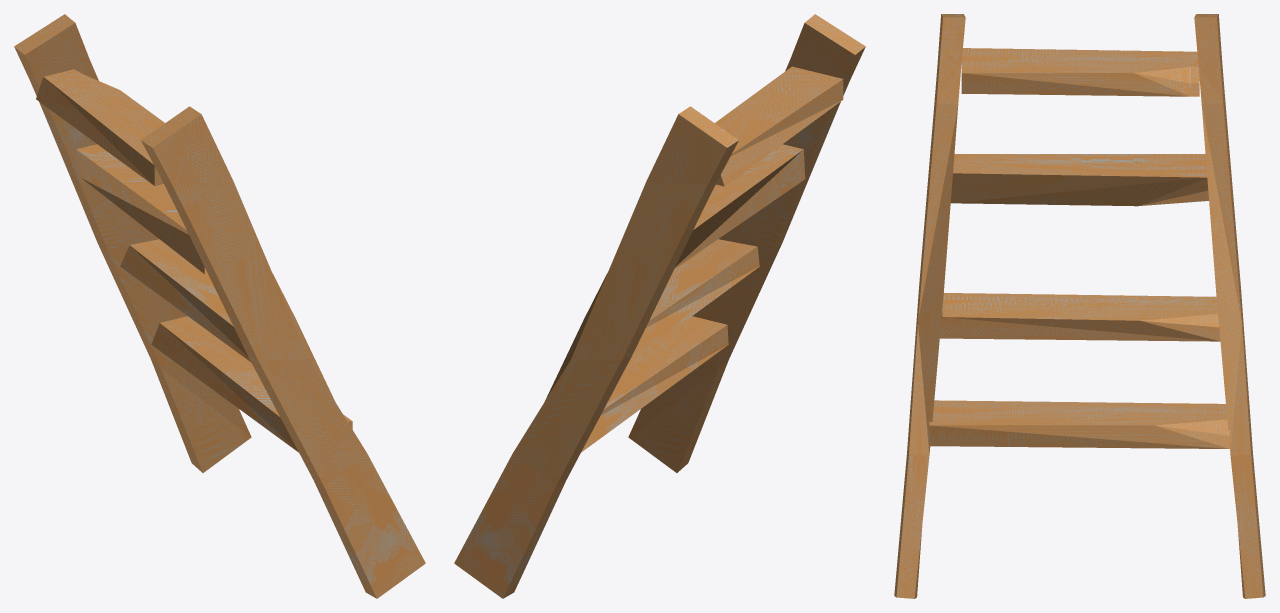
The model's file is Stairs2.fbx.
3 renders of one model, left to right at view 1: azimuth 30°, elevation 25°; view 2: azimuth 150°, elevation 25°; view 3: azimuth 270°, elevation 25°, orthographic.
Parts seen in each view (by area): view 1: Group6, Group3, Group4, Group5, Group2, Group1; view 2: Group3, Group6, Group4, Group5, Group2, Group1; view 3: Group3, Group6, Group5, Group1, Group2, Group4.
Boxes of the visible parts, x1,y1,x2,y2 form: Group6: [141, 106, 425, 598]; Group3: [14, 14, 251, 472]; Group4: [36, 69, 164, 185]; Group5: [151, 316, 352, 452]; Group2: [120, 239, 251, 362]; Group1: [76, 144, 204, 273]; Group3: [454, 106, 738, 598]; Group6: [628, 14, 865, 472]; Group4: [715, 66, 843, 186]; Group5: [581, 316, 728, 452]; Group2: [570, 239, 759, 362]; Group1: [674, 144, 805, 268]; Group3: [1194, 14, 1265, 598]; Group6: [894, 14, 965, 598]; Group5: [929, 400, 1229, 448]; Group1: [950, 154, 1208, 206]; Group2: [939, 293, 1220, 341]; Group4: [961, 48, 1199, 96].
Bounding box in the file's own units: 636 × 1223 × 813.
